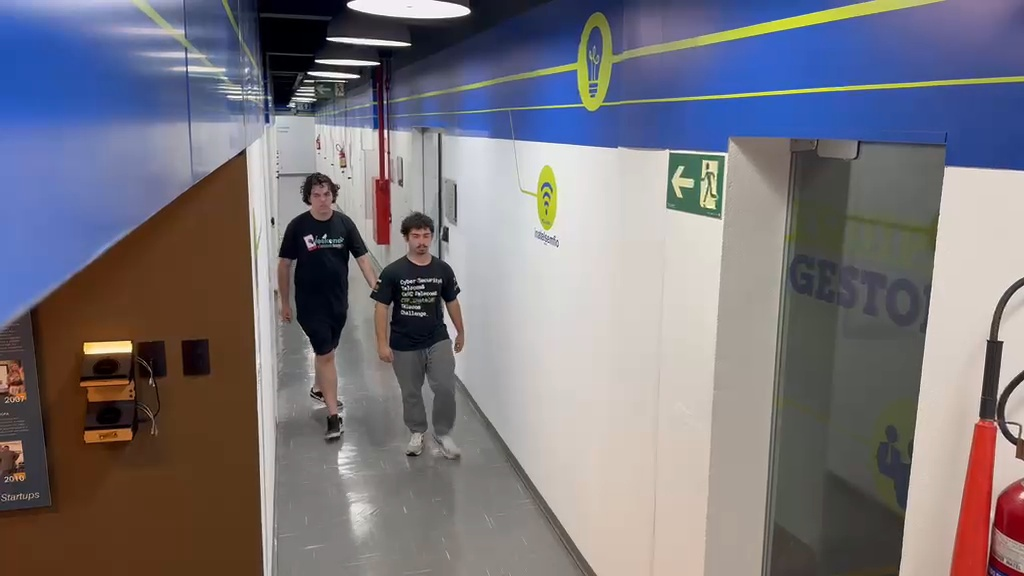person: (275, 174, 382, 439), (368, 212, 466, 463)
